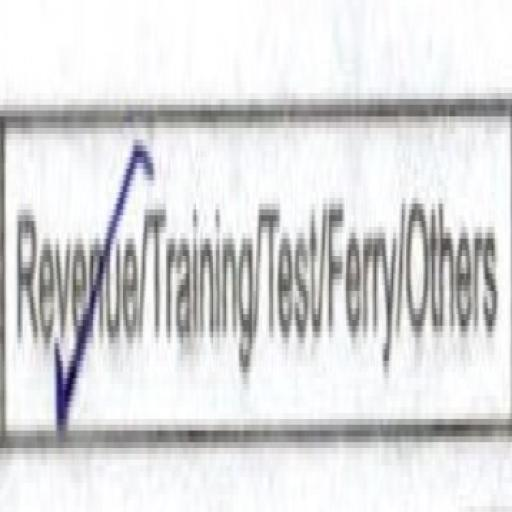check: (3, 87, 139, 512)
